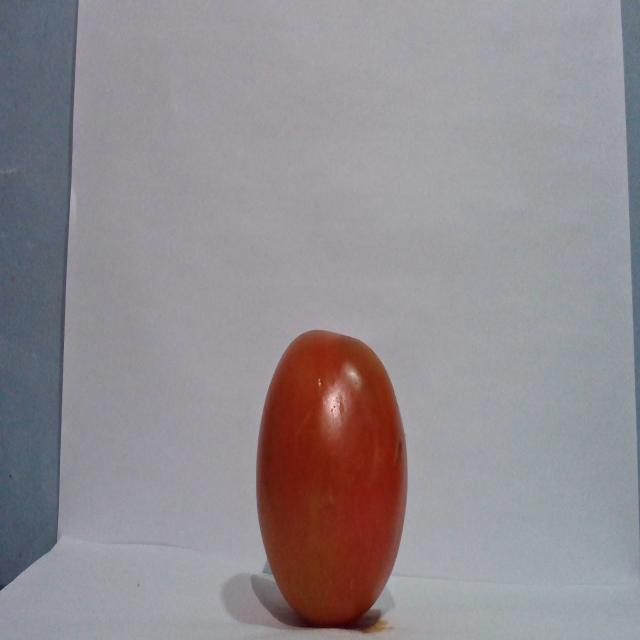Red: (254, 327, 408, 627)
